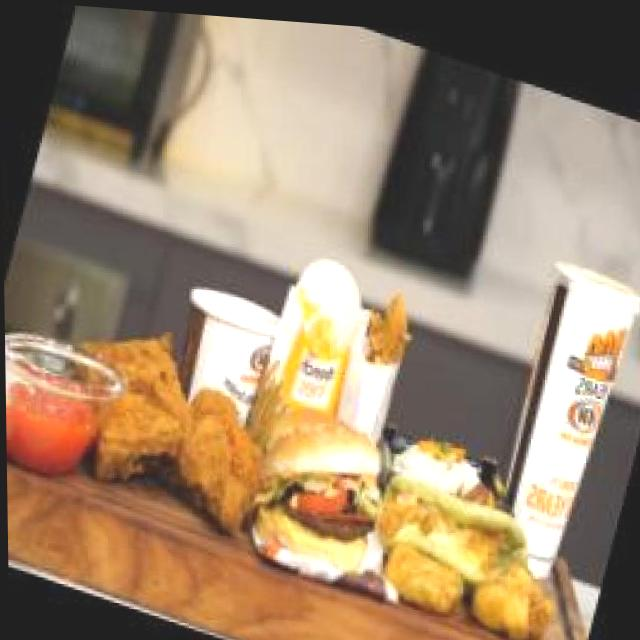AW cola: (439, 209, 640, 594)
black pepper rice bowl: (377, 404, 514, 510)
chicken waffle: (333, 294, 423, 422)
crispy corn: (146, 243, 303, 437)
french fries: (266, 252, 367, 386)
fried chicken: (31, 302, 294, 567)
mango chicken pocket: (360, 441, 550, 605)
mozza burger: (229, 388, 410, 608)
perkedel: (368, 504, 487, 621), (459, 539, 565, 640)
